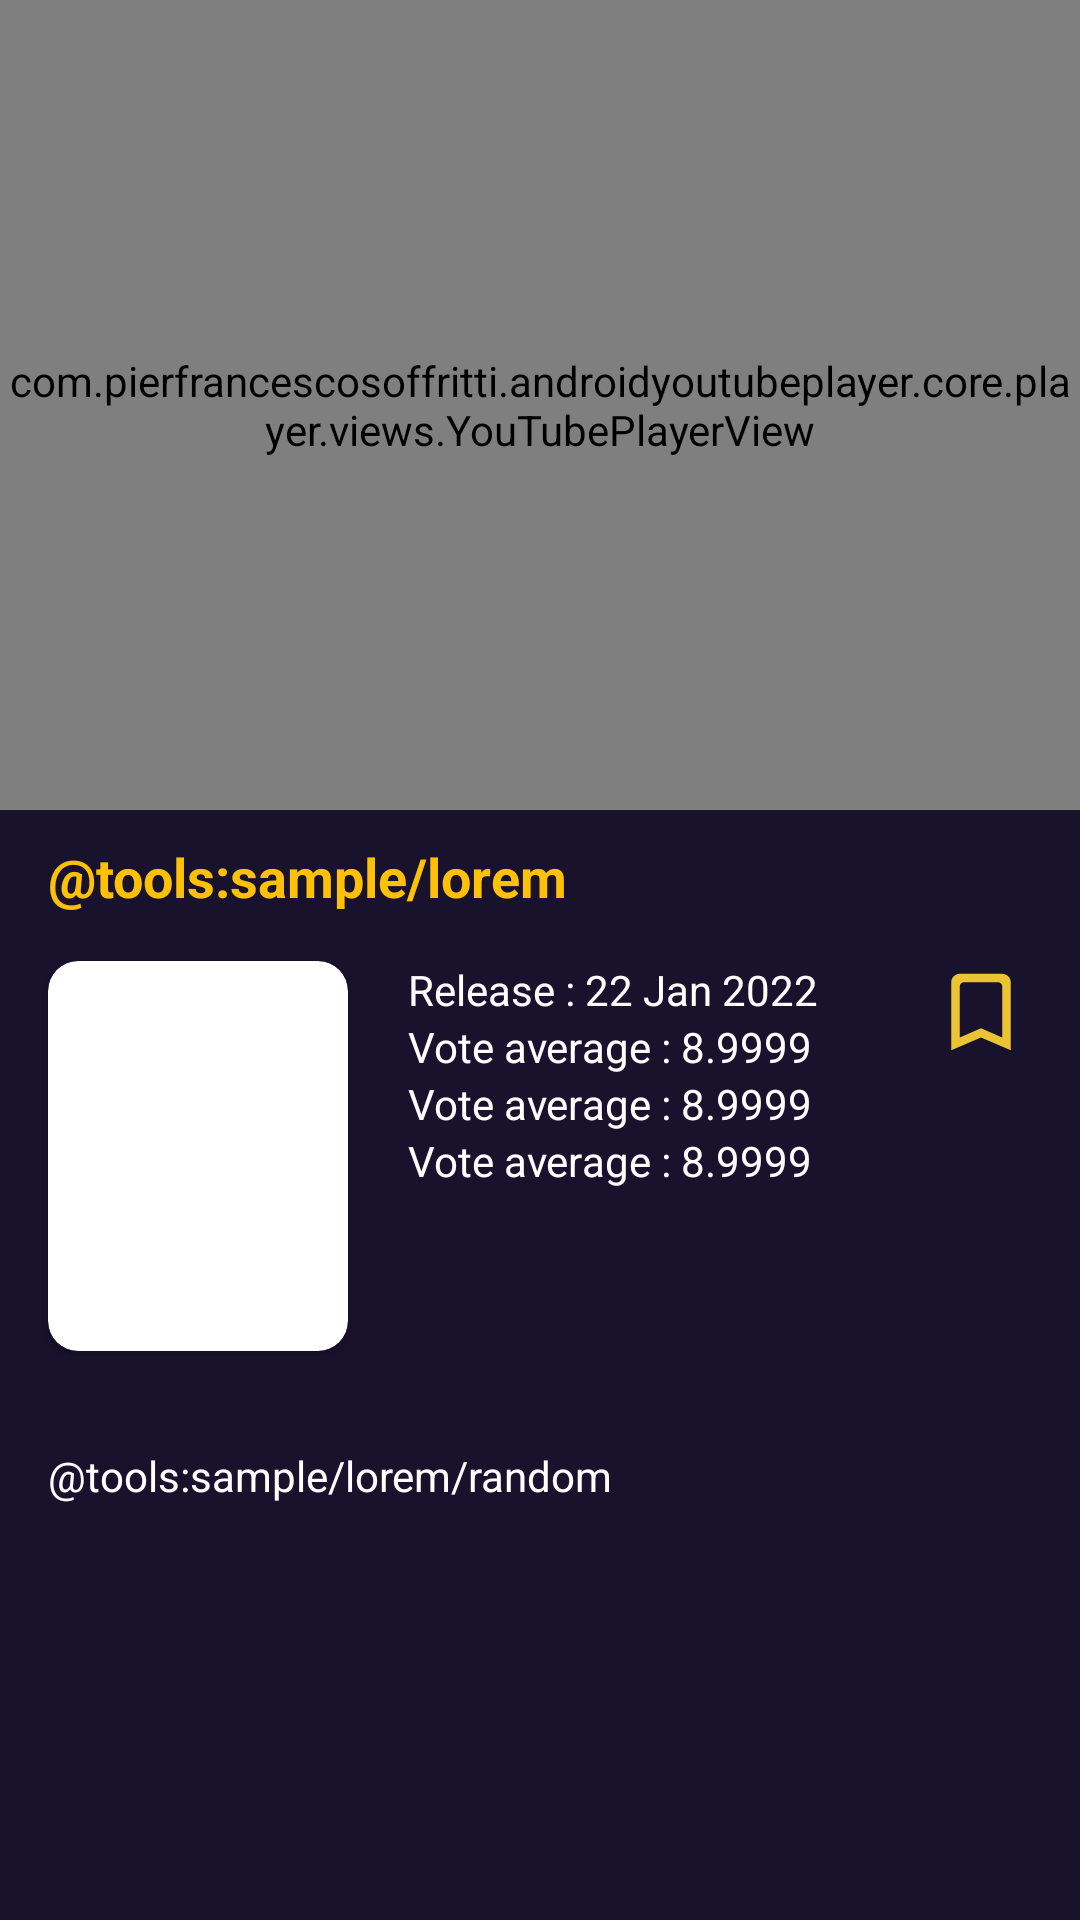

Point at icon controls on the screen. Image size 1080x1920, points as (x,y).
bookmark border: (981,1011)
